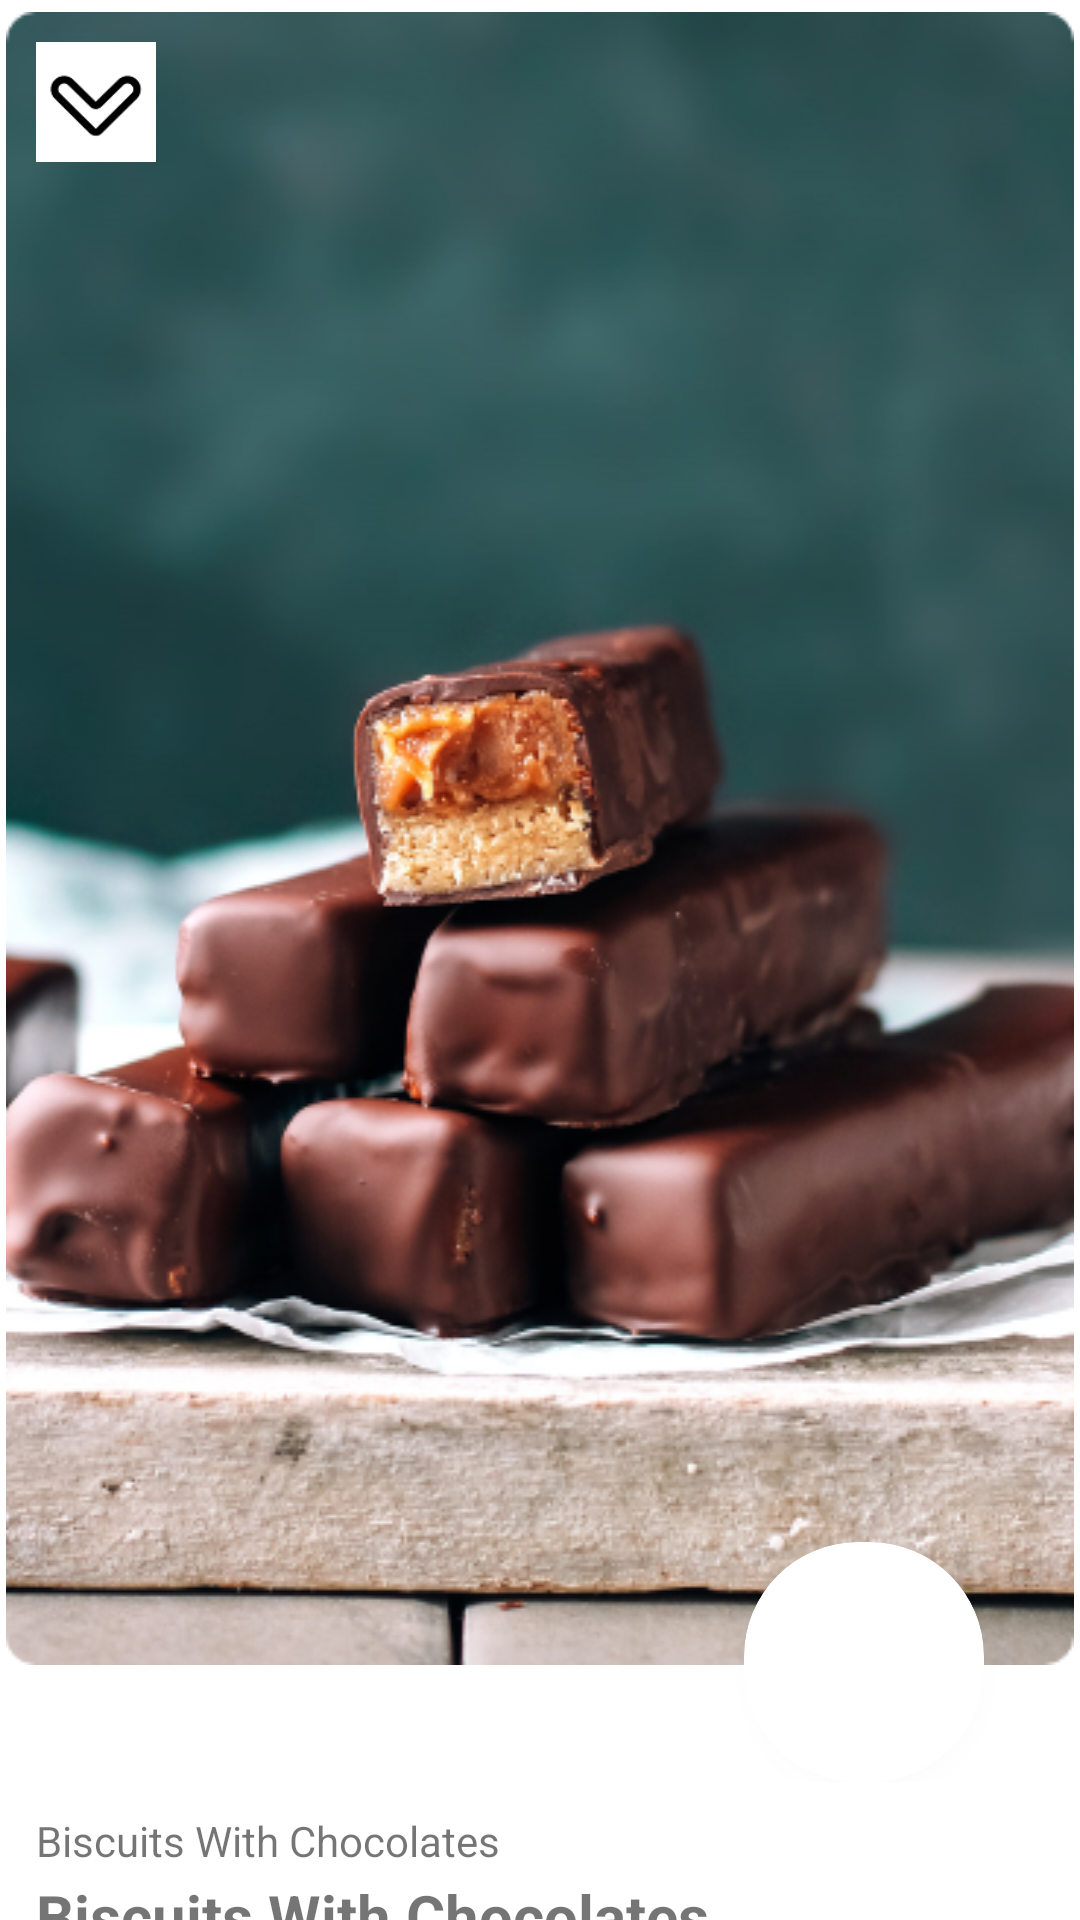

Point at icon controls on the screen. Image size 1080×1920, points as point (x, y).
pointer down: point (96, 102)
